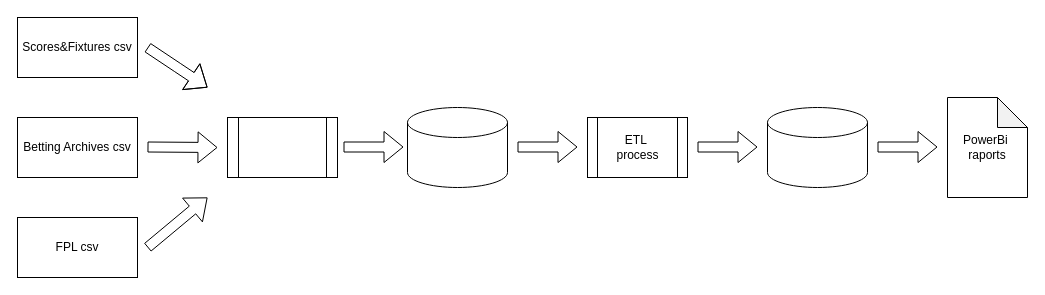
The diagram is 1045 pixels wide and 295 high, and some of its shapes have lost their labels. Each missing label, with the centre of its shape:
"Final database" goes at pixel 817 147.
"Python script" goes at pixel 282 147.
"Raw database" goes at pixel 457 147.
